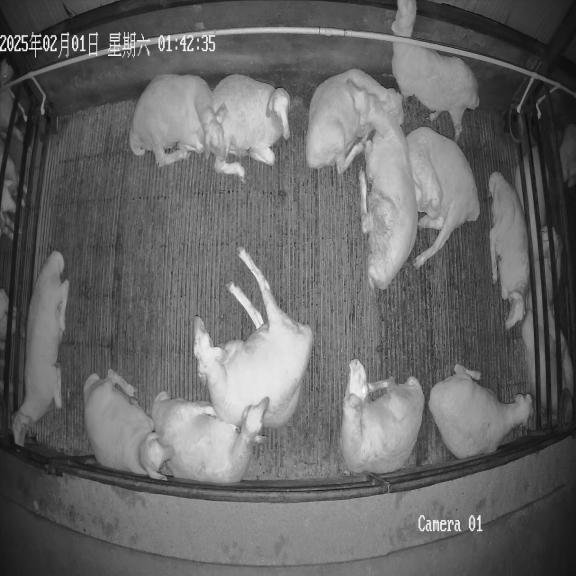lying: (194, 248, 313, 428), (347, 81, 418, 290), (11, 251, 69, 445), (151, 392, 269, 483), (406, 127, 480, 268), (306, 69, 404, 173), (429, 364, 533, 459), (340, 359, 425, 474), (83, 370, 171, 479), (129, 74, 227, 167), (212, 74, 290, 165), (488, 172, 529, 329), (215, 160, 244, 178)
stand: (392, 42, 479, 141), (392, 0, 416, 36)
